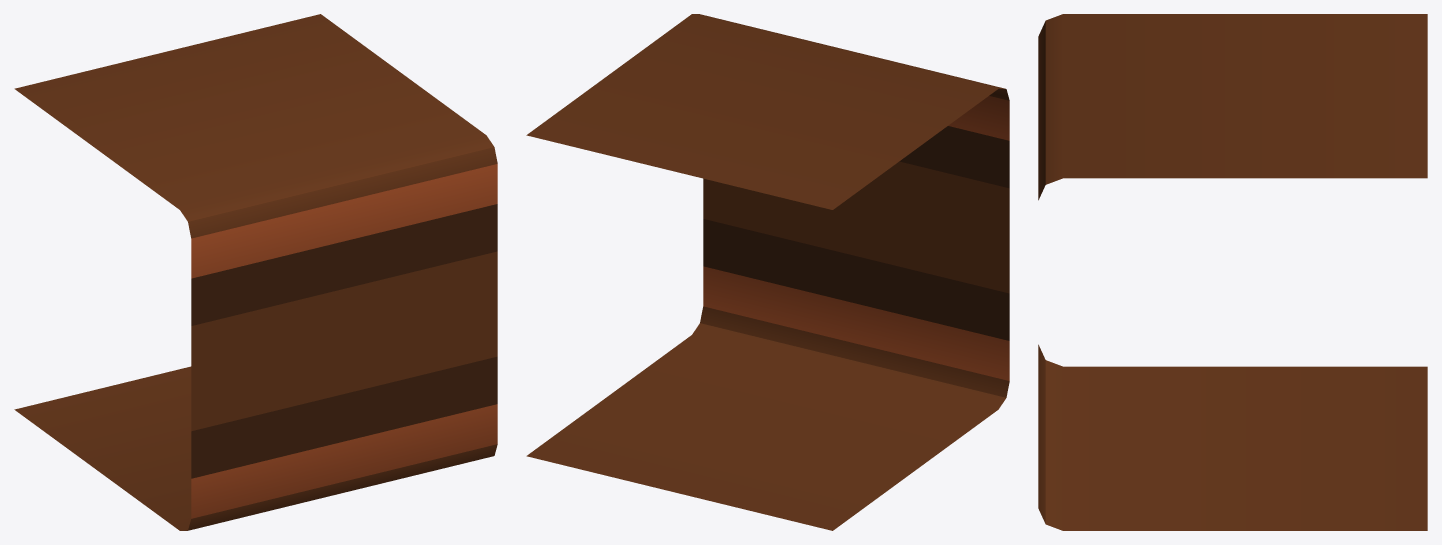
The model's file is Cube_Dirt_Side.obj.
3 views of the same model, side by side, from view 1: azimuth 30°, elevation 25°; view 2: azimuth 150°, elevation 25°; view 3: azimuth 270°, elevation 25° (orthographic). The views are drawn at different scales.
Visible parts, largest first — view 1: Cube_Dirt_Side_Cube.311; view 2: Cube_Dirt_Side_Cube.311; view 3: Cube_Dirt_Side_Cube.311.
Boxes of the visible parts, x1=… form: Cube_Dirt_Side_Cube.311: x1=14, y1=14, x2=497, y2=530; Cube_Dirt_Side_Cube.311: x1=526, y1=14, x2=1009, y2=530; Cube_Dirt_Side_Cube.311: x1=1038, y1=14, x2=1427, y2=530.
Bounding box in the file's own units: 2 × 2 × 2.
